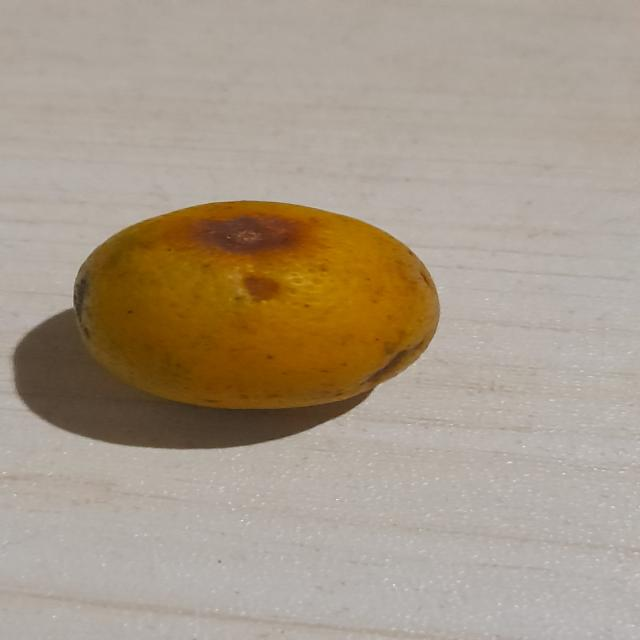black spot: (69, 197, 447, 415)
